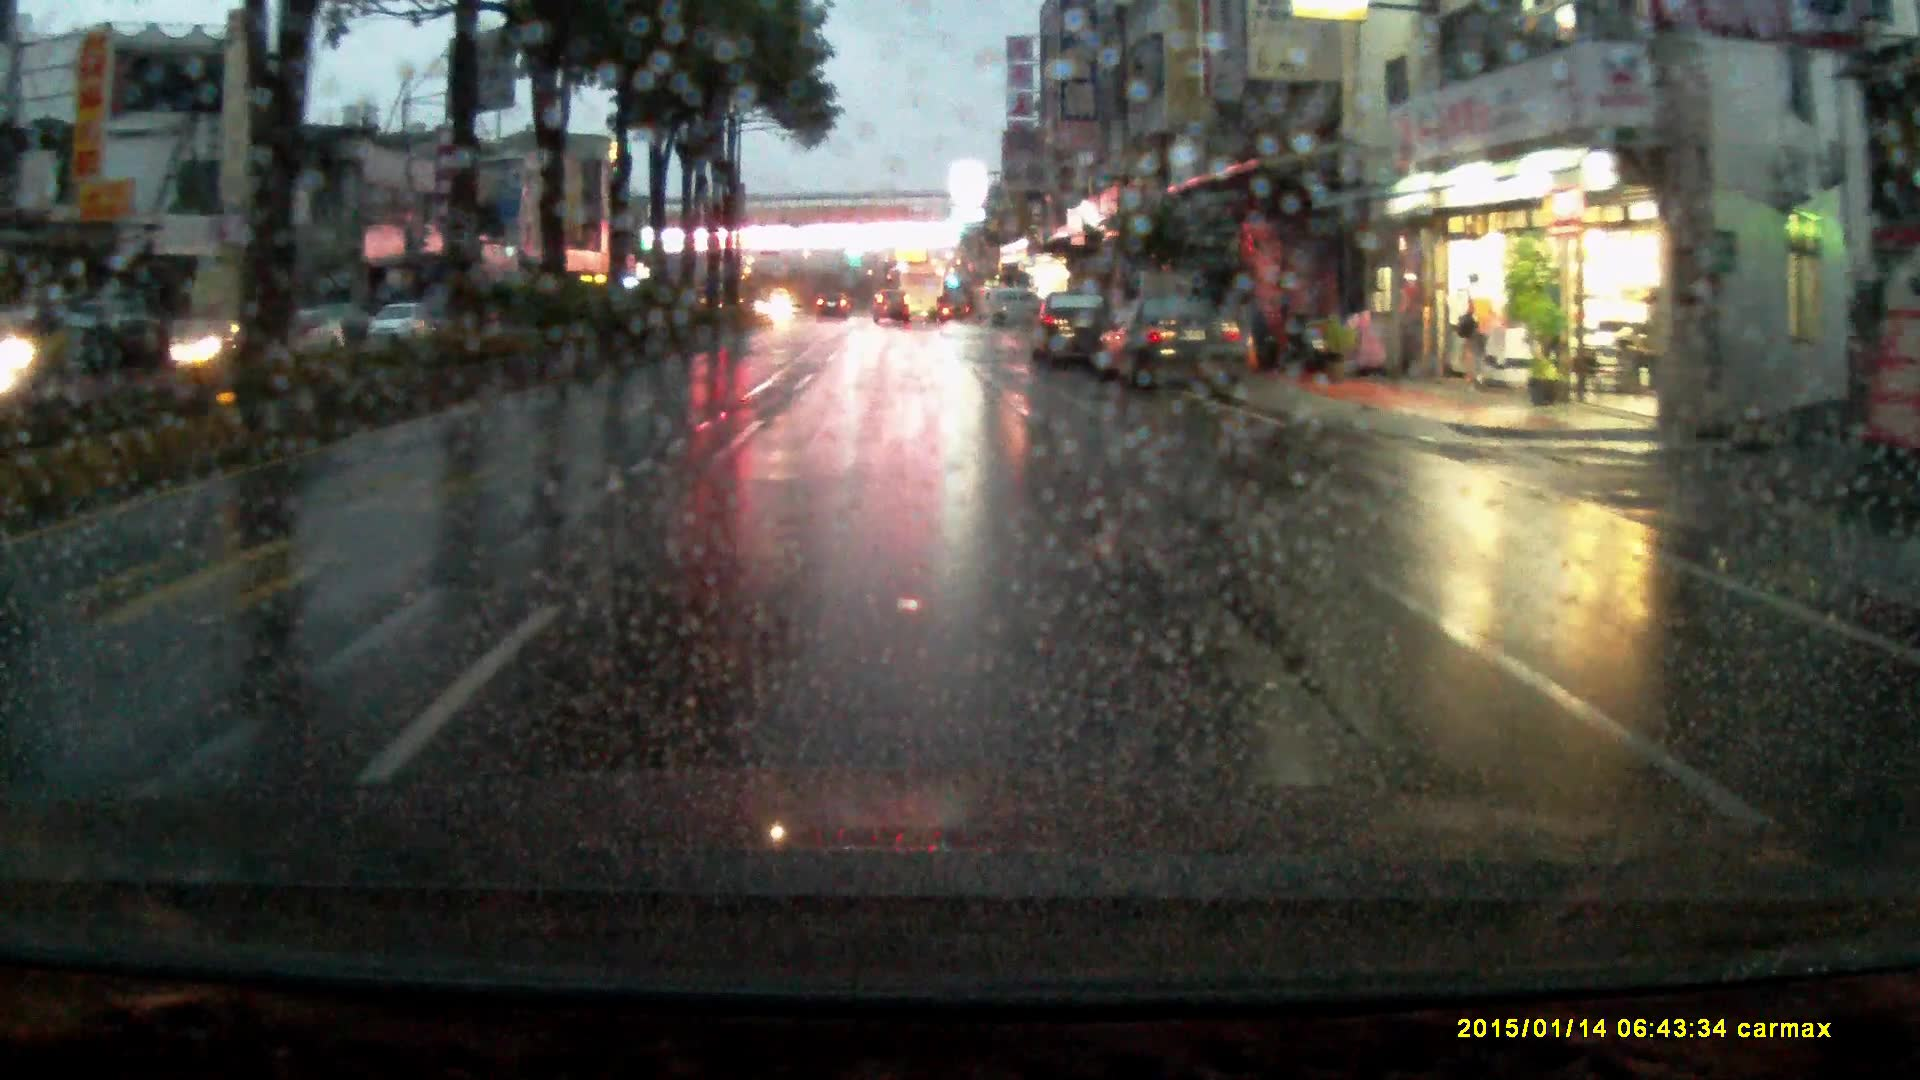rider: (2, 288, 59, 420)
vehicle: (1090, 305, 1250, 402), (1028, 302, 1116, 382), (243, 317, 342, 370), (888, 276, 943, 332), (976, 296, 1044, 338), (368, 309, 431, 352), (870, 301, 910, 335), (814, 301, 853, 330)
